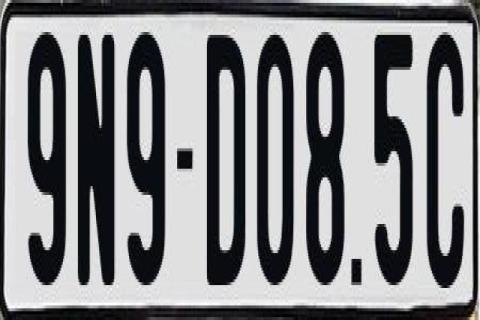0: (126, 27, 170, 297), (306, 32, 349, 302), (374, 27, 416, 280), (25, 24, 63, 294), (257, 26, 295, 288)
C: (425, 26, 462, 282)
D: (206, 26, 244, 294)
N: (75, 26, 115, 294)
